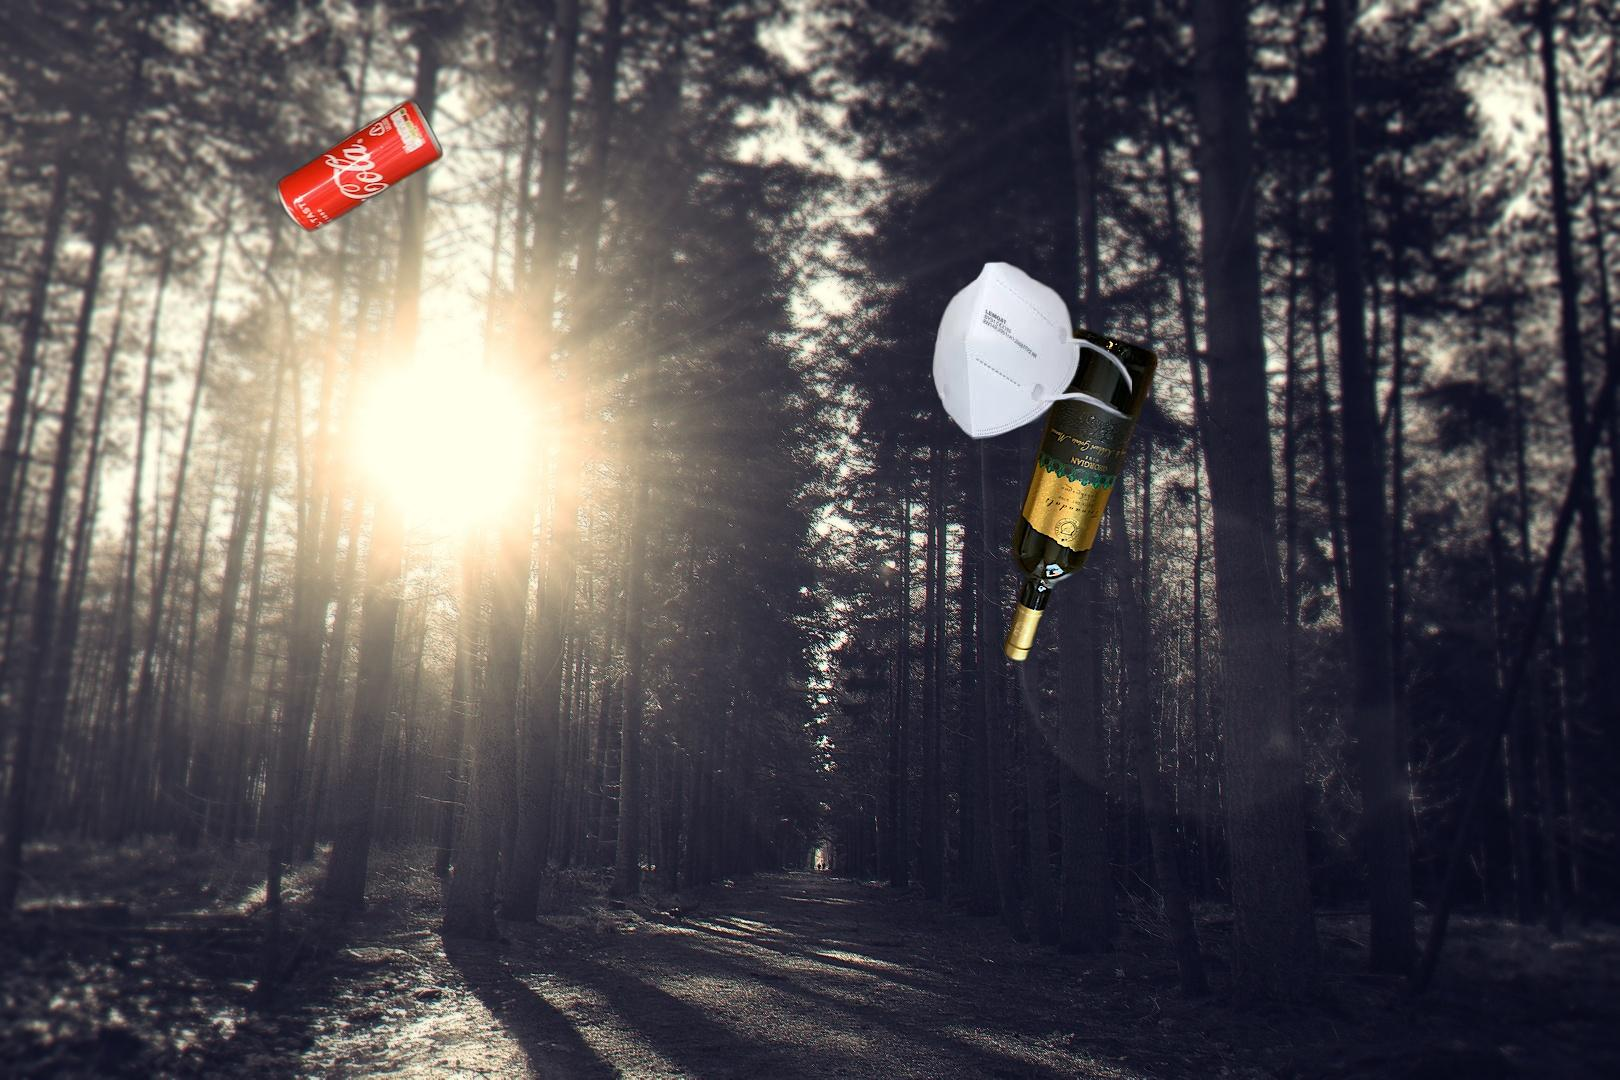glass: (999, 322, 1161, 667)
metal-cans: (272, 95, 447, 238)
trash: (929, 249, 1132, 442)
